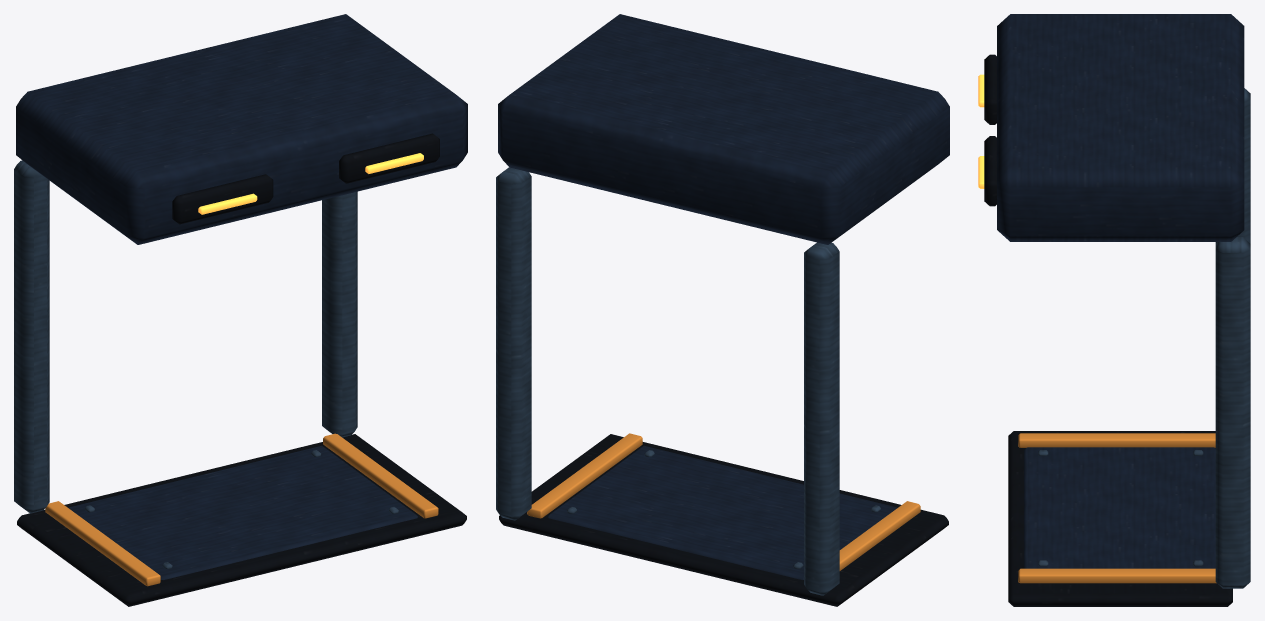
File: press_trap.glb
3 views of the same model, side by side, from view 1: azimuth 30°, elevation 25°; view 2: azimuth 150°, elevation 25°; view 3: azimuth 270°, elevation 25° (orthographic).
Parts seen in each view (by area): view 1: press_trap - Blue steel, press_trap - Brushed gunmetal, press_trap - Recessed iron, press_trap - Safety enamel, press_trap - Hot service LEDs; view 2: press_trap - Blue steel, press_trap - Brushed gunmetal, press_trap - Recessed iron, press_trap - Safety enamel; view 3: press_trap - Blue steel, press_trap - Brushed gunmetal, press_trap - Recessed iron, press_trap - Safety enamel, press_trap - Hot service LEDs.
Boxes of the visible parts, box(x1,y1,x2,y2) form: press_trap - Blue steel: box(16, 14, 467, 579); press_trap - Brushed gunmetal: box(14, 160, 398, 568); press_trap - Recessed iron: box(17, 133, 466, 606); press_trap - Safety enamel: box(45, 433, 438, 586); press_trap - Hot service LEDs: box(198, 153, 423, 214); press_trap - Blue steel: box(498, 14, 949, 579); press_trap - Brushed gunmetal: box(496, 167, 880, 595); press_trap - Recessed iron: box(499, 434, 948, 606); press_trap - Safety enamel: box(527, 433, 920, 570); press_trap - Blue steel: box(997, 14, 1244, 568); press_trap - Brushed gunmetal: box(1038, 88, 1250, 588); press_trap - Recessed iron: box(984, 54, 1232, 606); press_trap - Safety enamel: box(1018, 433, 1216, 583); press_trap - Hot service LEDs: box(978, 74, 984, 188).
Bounding box in the file's own units: 2.96 × 3.58 × 2.03.
Materials: 5 (3 with a texture image).
